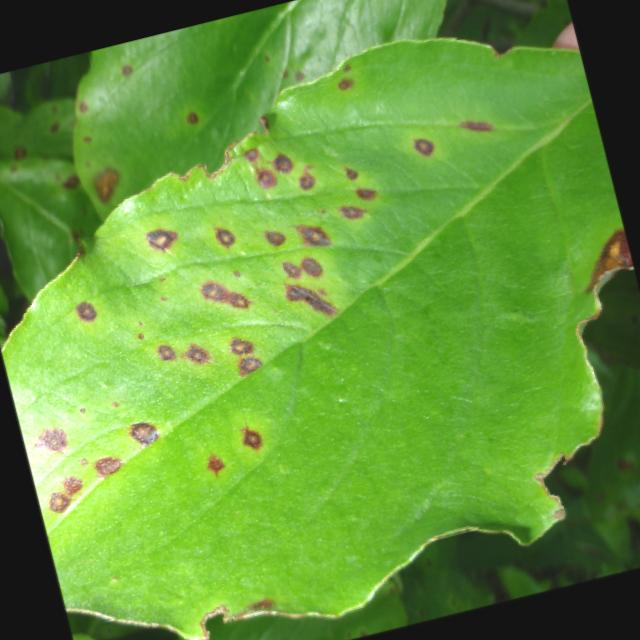leaf_spot: (3, 37, 626, 638)
